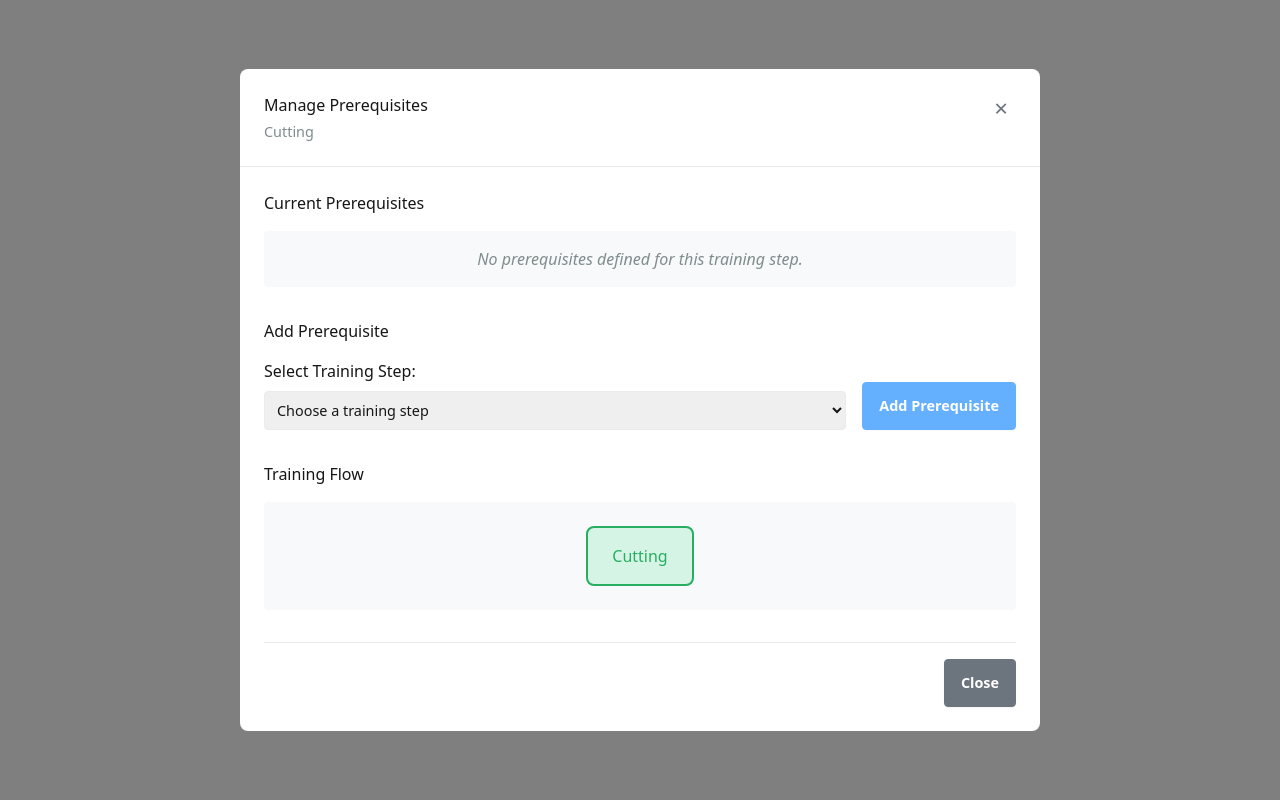
Test: adding a prerequisite › shows the server's reason for a refusal and does not announce a change
The image size is (1280, 800).
Select "Tool 3f2a91b0... - Step 1: Step s2" in the dropdown labelled "Select Training Step:". click: (555, 411)
box: 264,391 -> 846,430
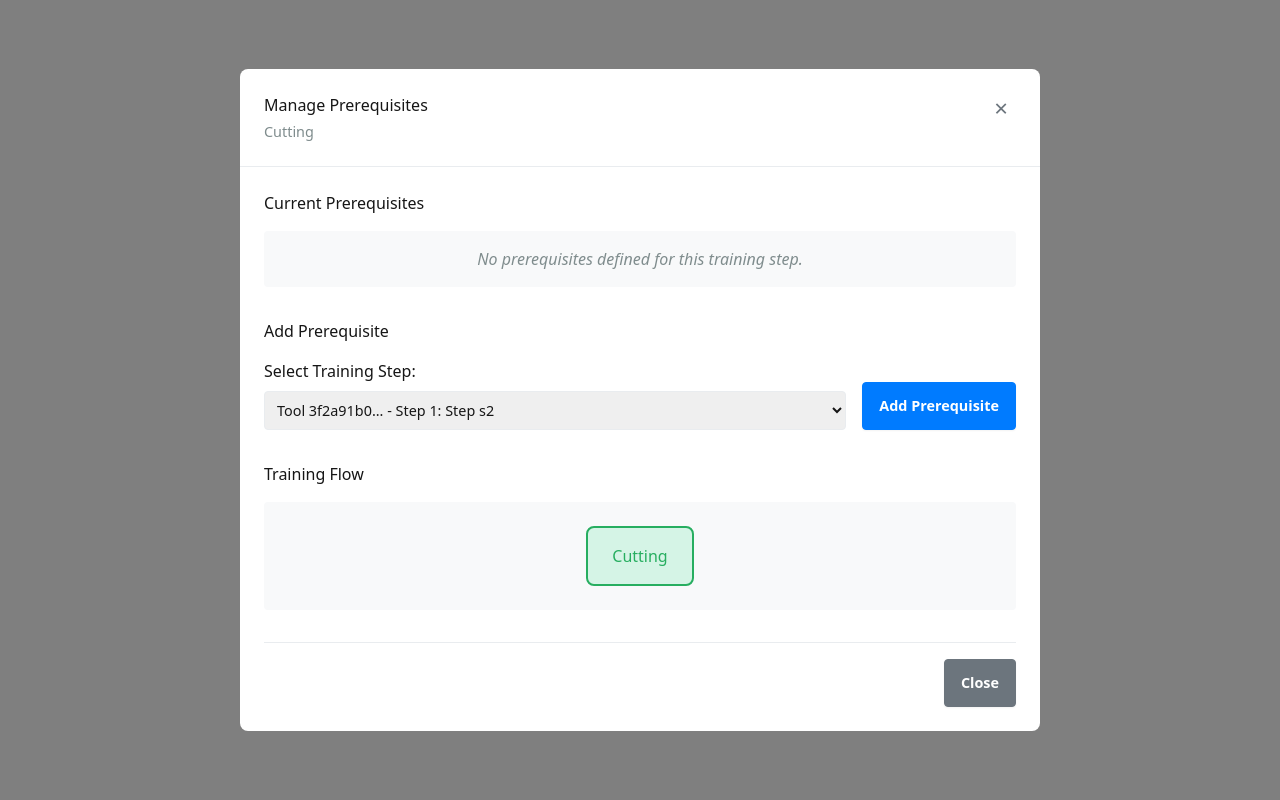
Submit the form, box 264,359 -> 1016,430
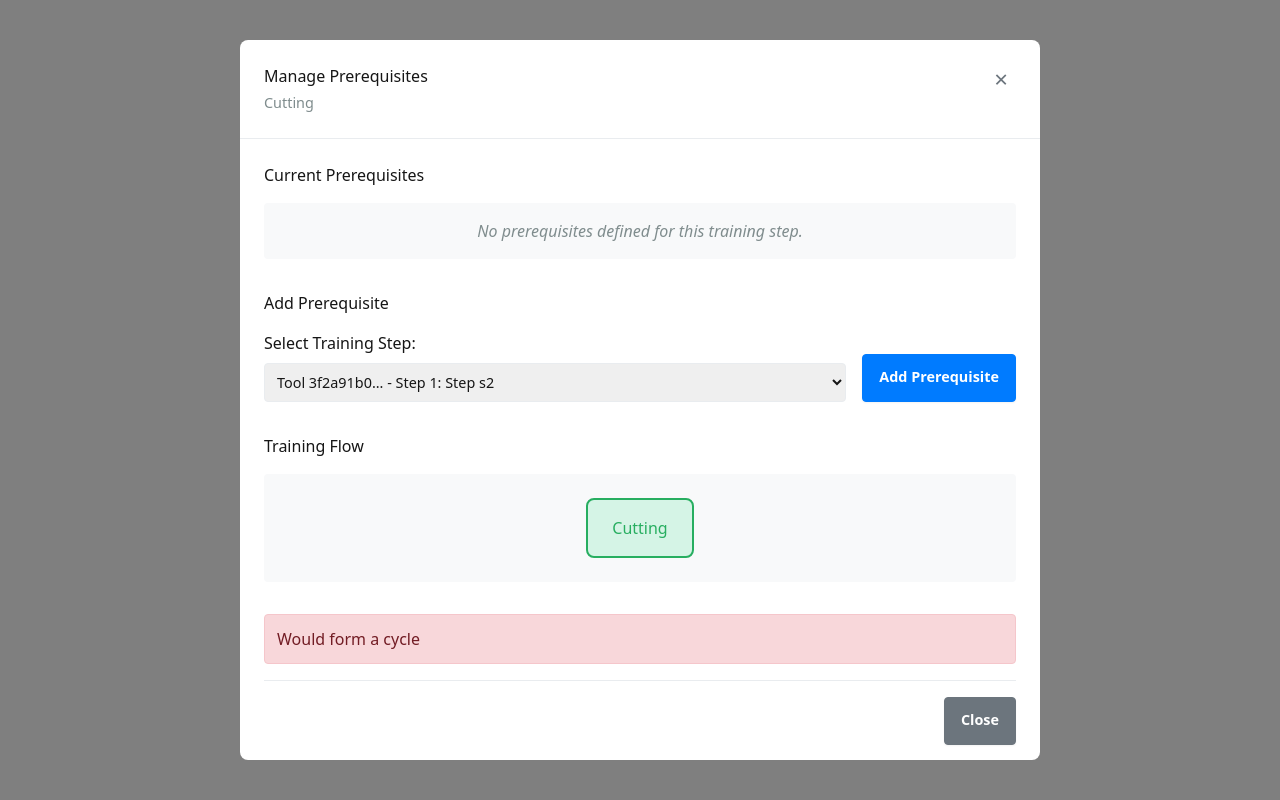
expect the text "Would form a cycle" is shown: met, box 264,614 -> 1016,664
